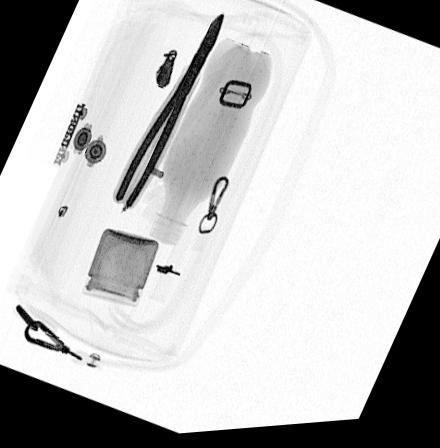Pliers: (111, 14, 228, 216)
